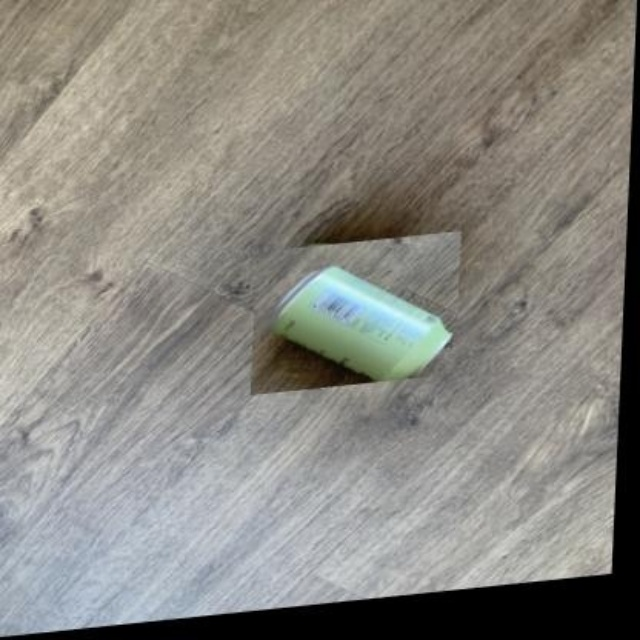trash: (272, 266, 449, 378)
